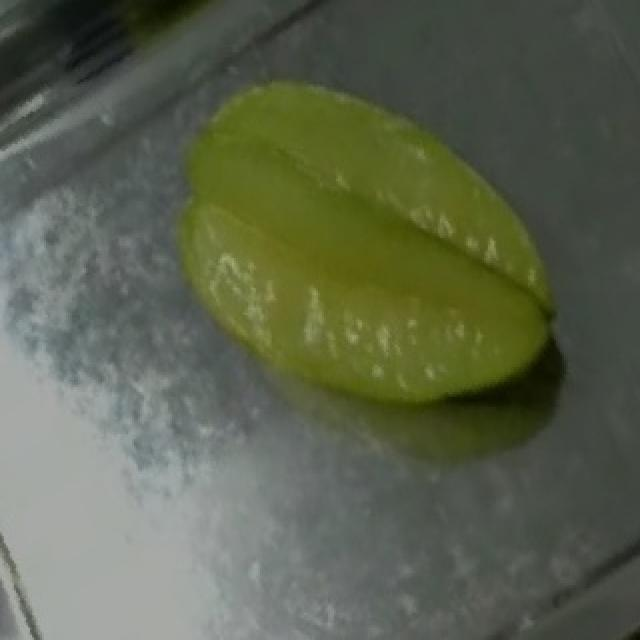fruit: (150, 15, 538, 444)
